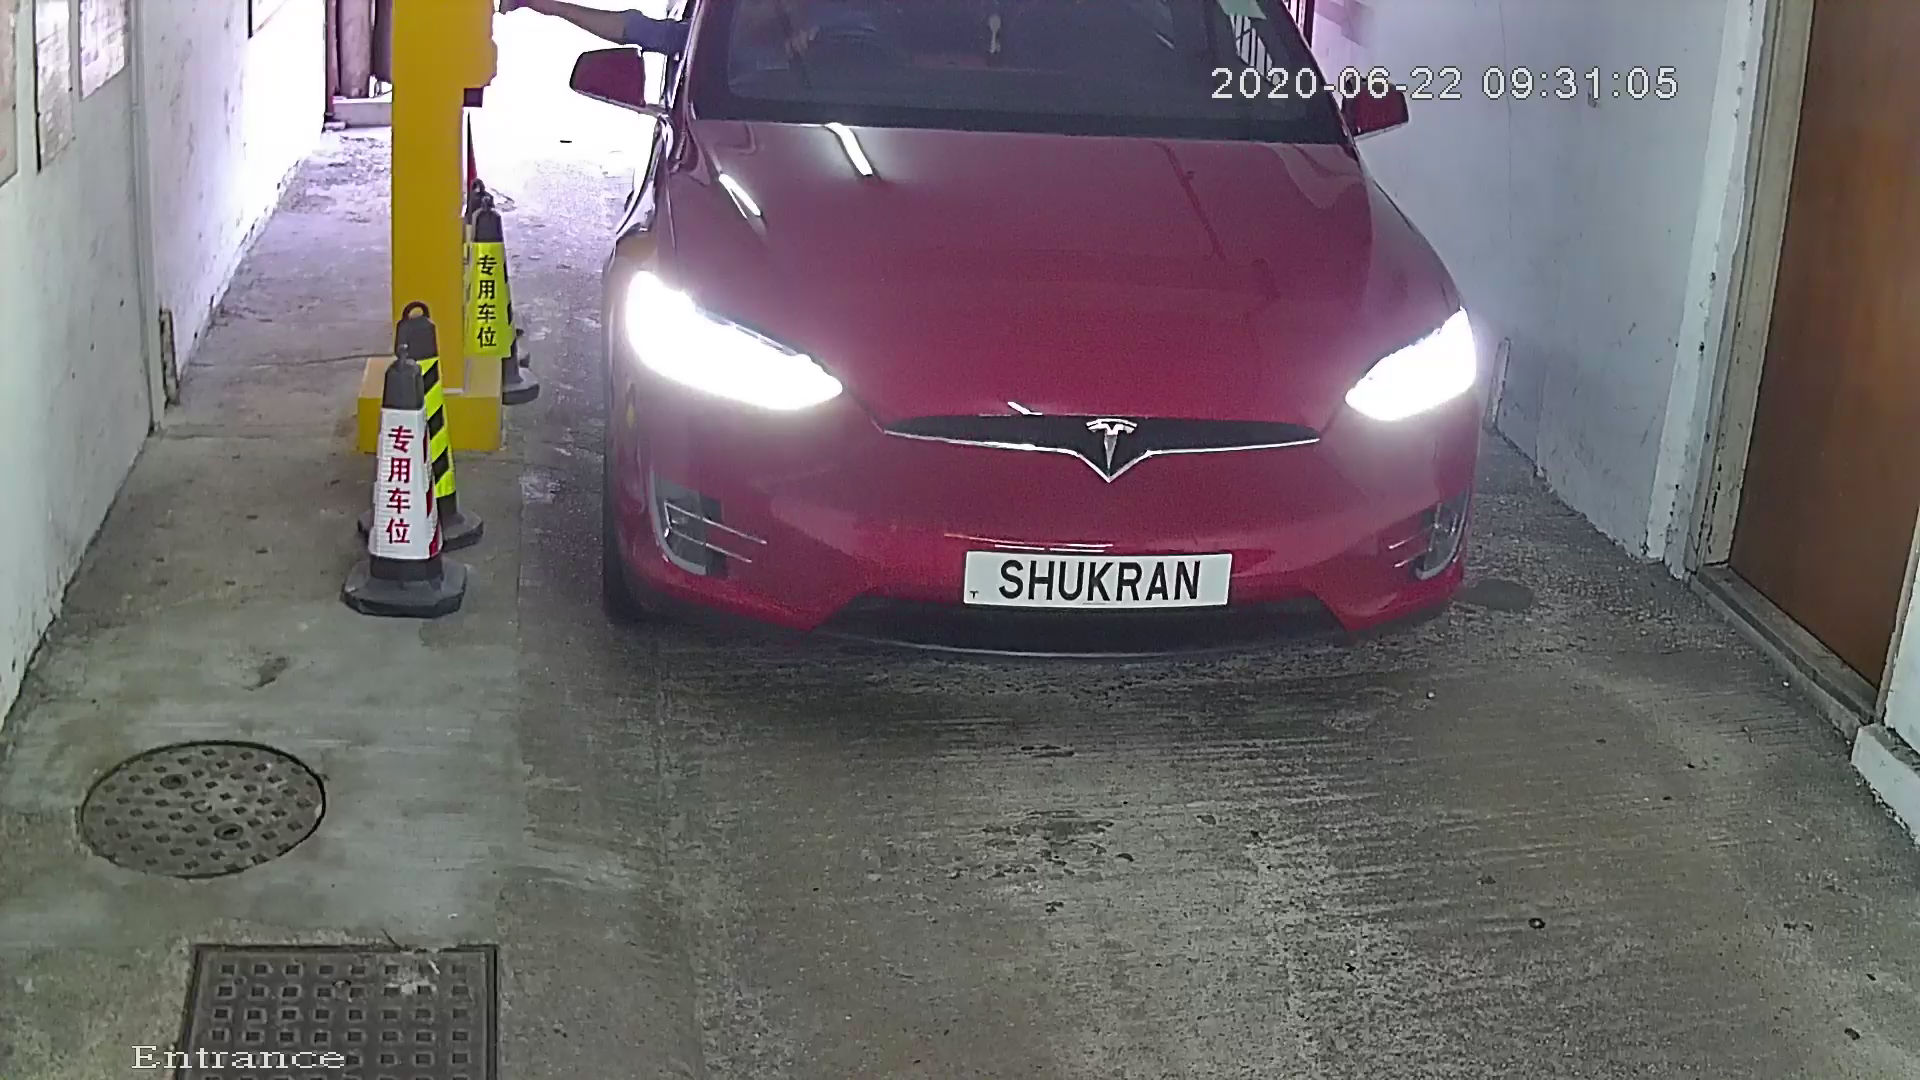privatecar: (597, 3, 1510, 711)
